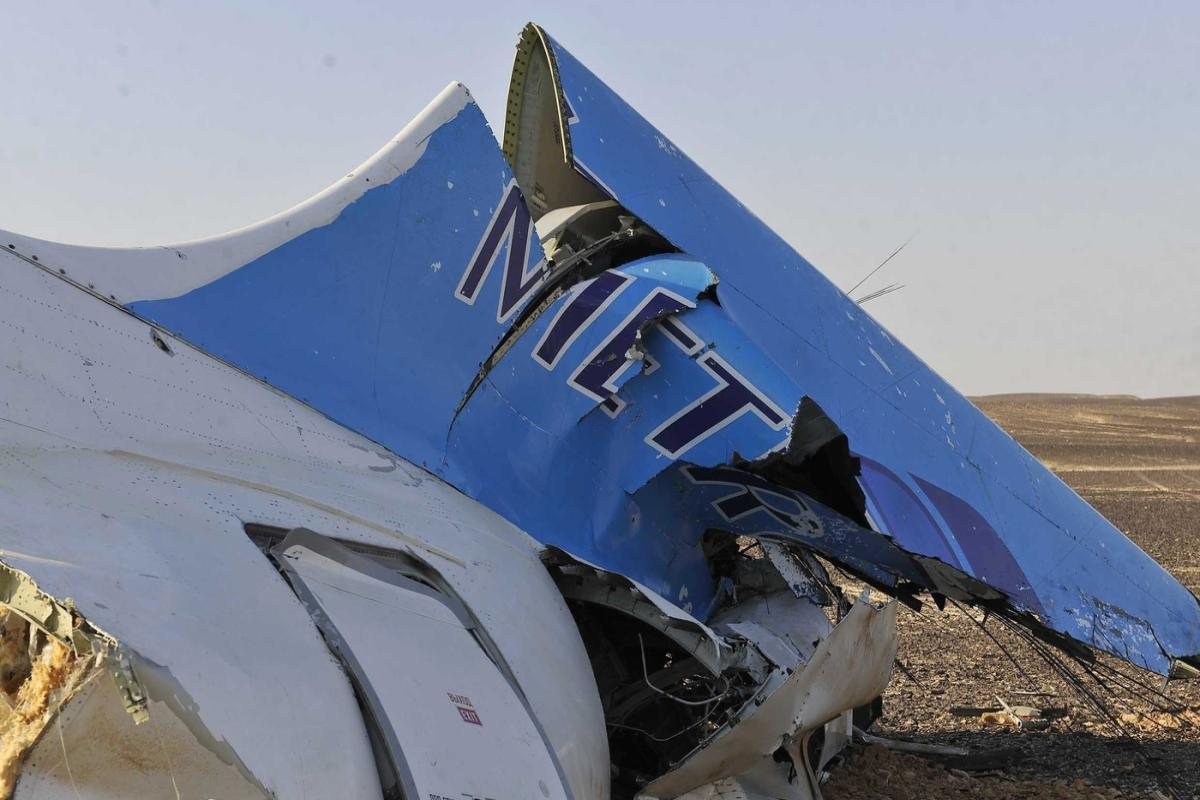Fuselage_damage: (522, 385, 1199, 799), (429, 27, 732, 487)
